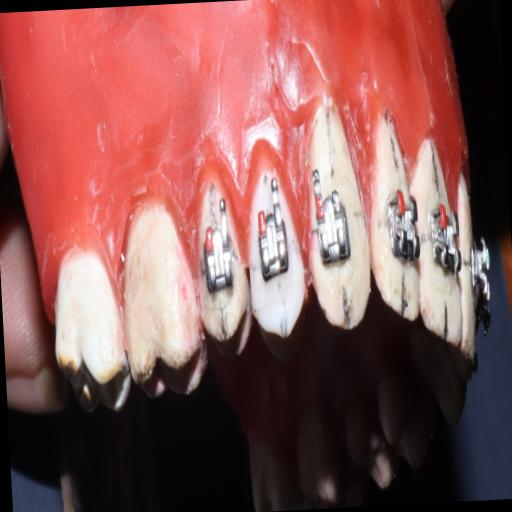incorrect_brace: (314, 192, 355, 270)
